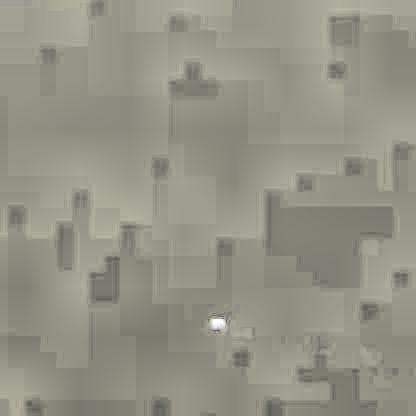golfball: (208, 313, 224, 328)
